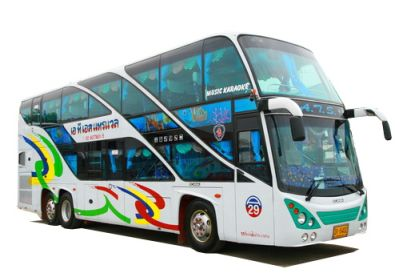bus: (17, 29, 369, 252)
